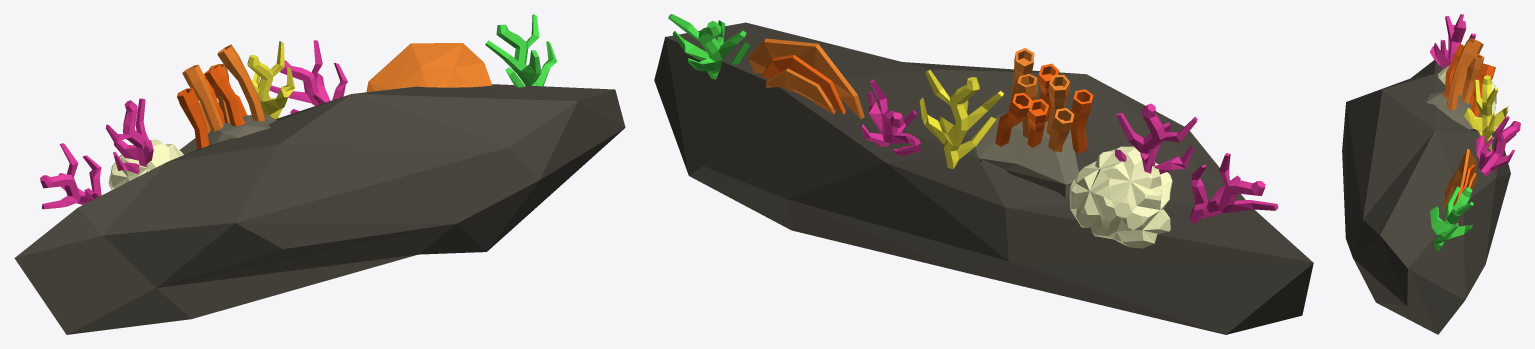
Rendered from WallCoral.FBX.
The picture shows the model from 3 angles, left to right: view 1: azimuth 30°, elevation 25°; view 2: azimuth 150°, elevation 25°; view 3: azimuth 270°, elevation 25°; orthographic projection. The views are drawn at different scales.
Parts seen in each view (by area): view 1: WallCoral; view 2: WallCoral; view 3: WallCoral.
Boxes of the visible parts, left/top/right/bottom form: WallCoral: left=14, top=14, right=625, bottom=334; WallCoral: left=654, top=14, right=1313, bottom=334; WallCoral: left=1342, top=14, right=1520, bottom=334.
Size of the model in its own units: 111 by 40.58 by 34.67.
